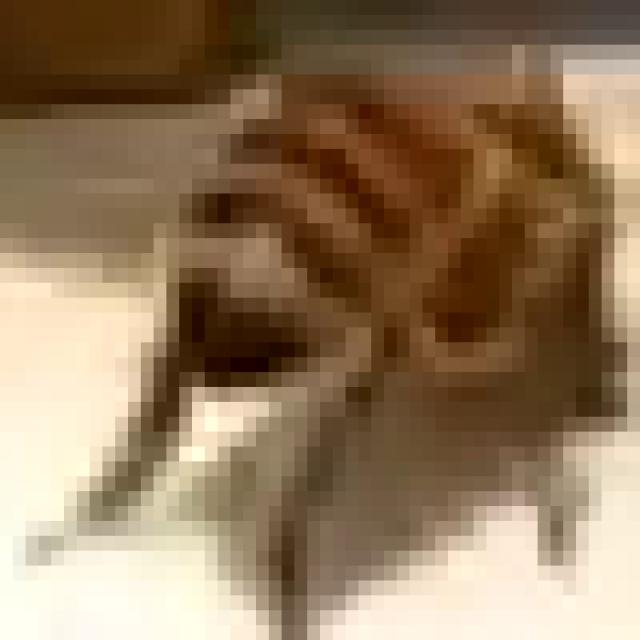honeybee: (115, 60, 640, 506)
